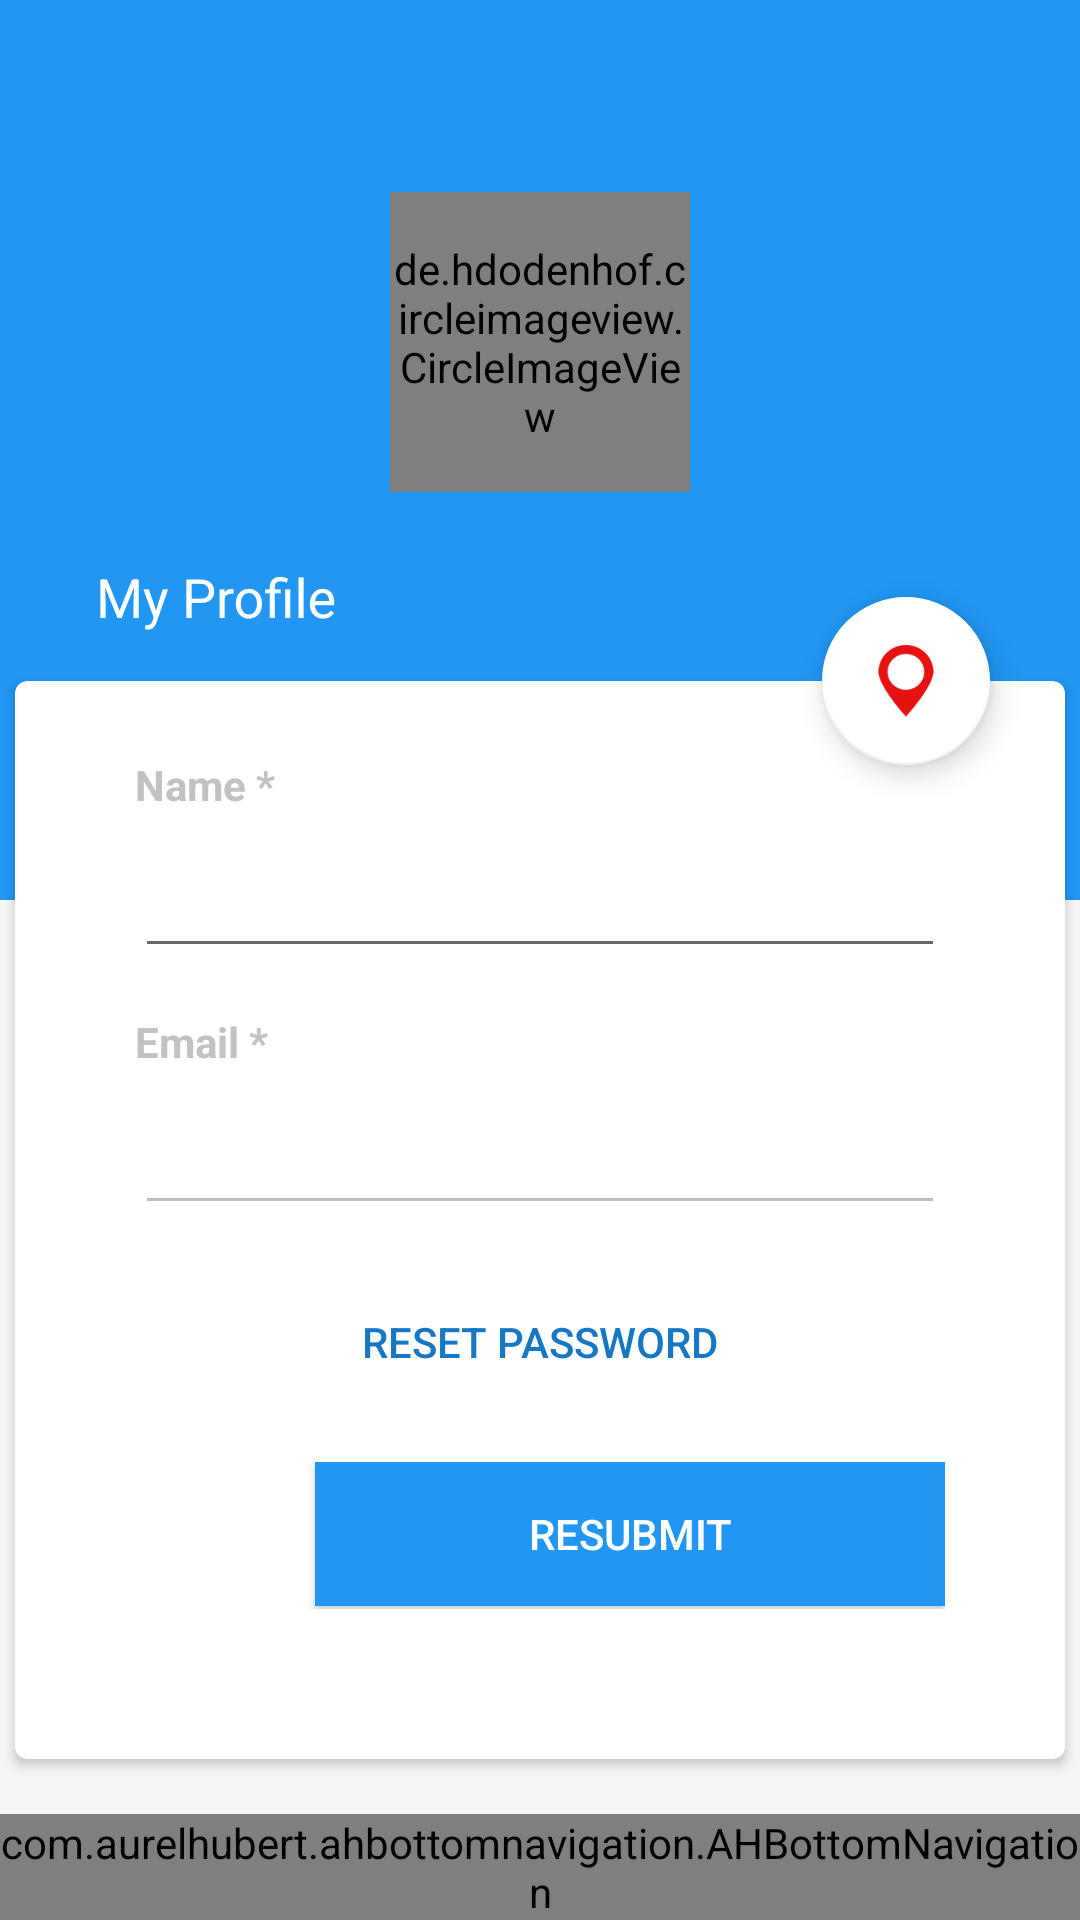

Point at icon controls on the screen. Image size 1080 x 1920, points as (x,y).
loc: (906,681)
